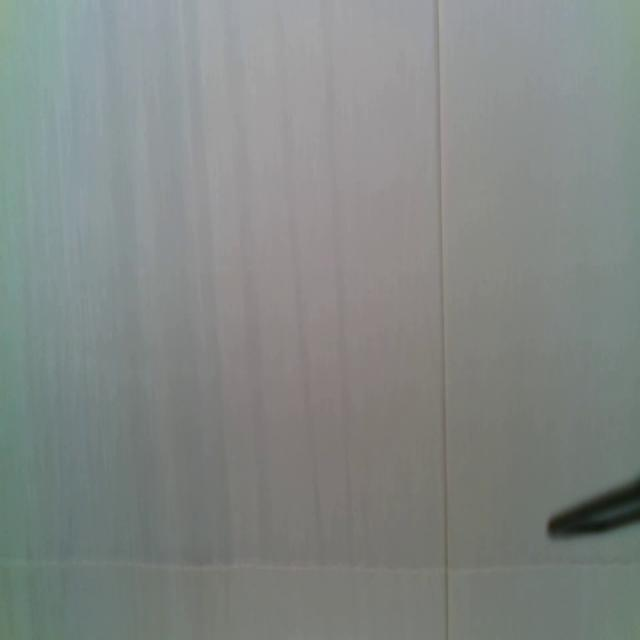crease: (434, 0, 450, 640)
